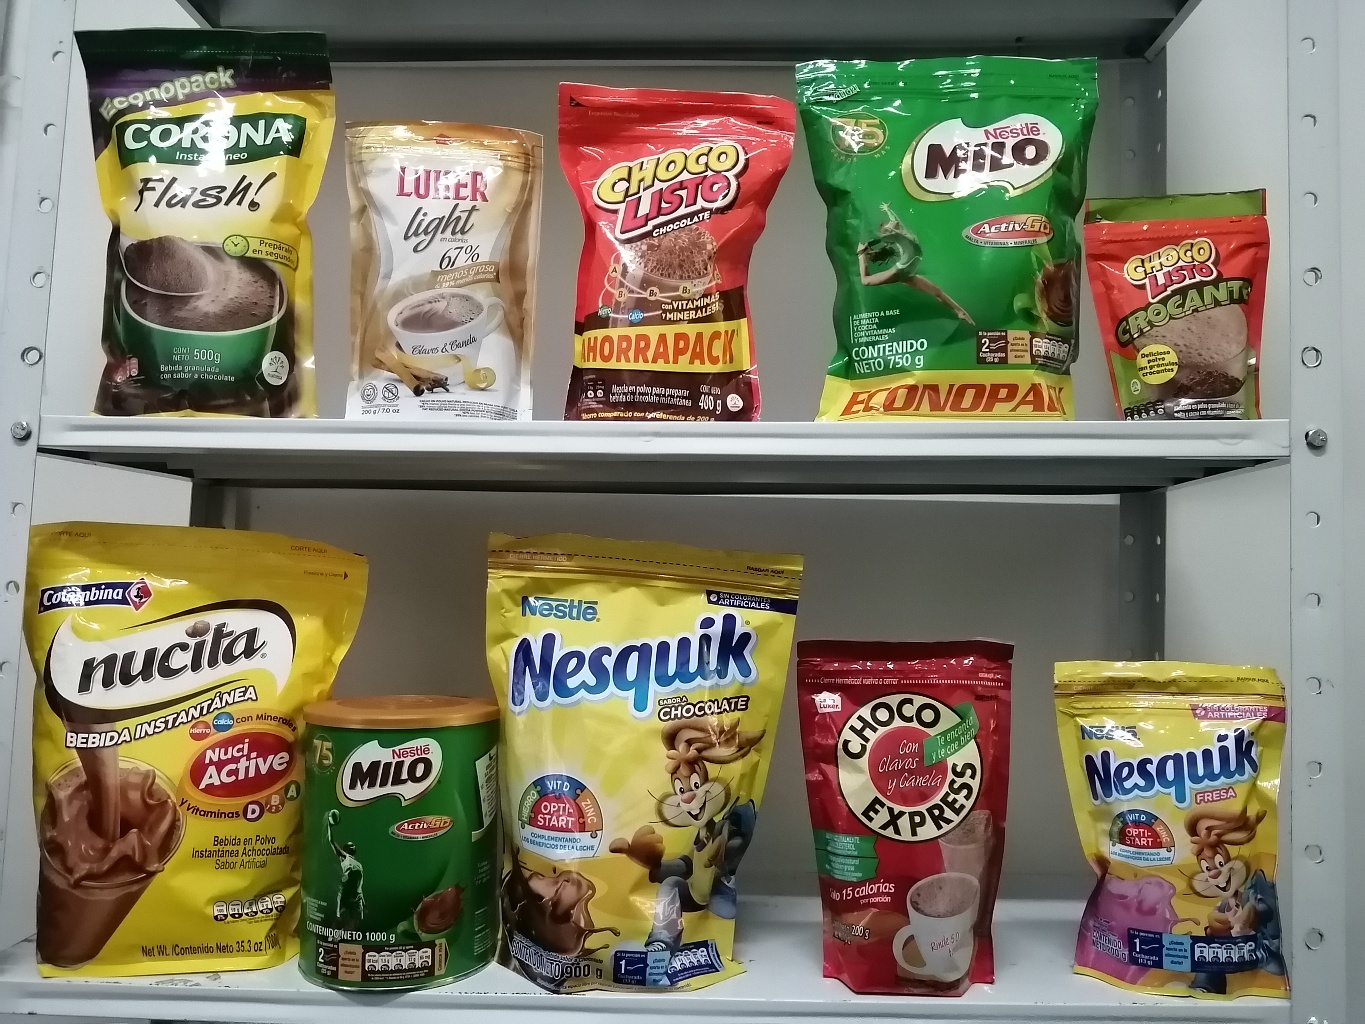COL0170102DYP10000: (1083, 180, 1274, 418)
COL0170103DYP40000: (561, 76, 790, 418)
COL0170305DYP20000: (1052, 652, 1298, 998)
